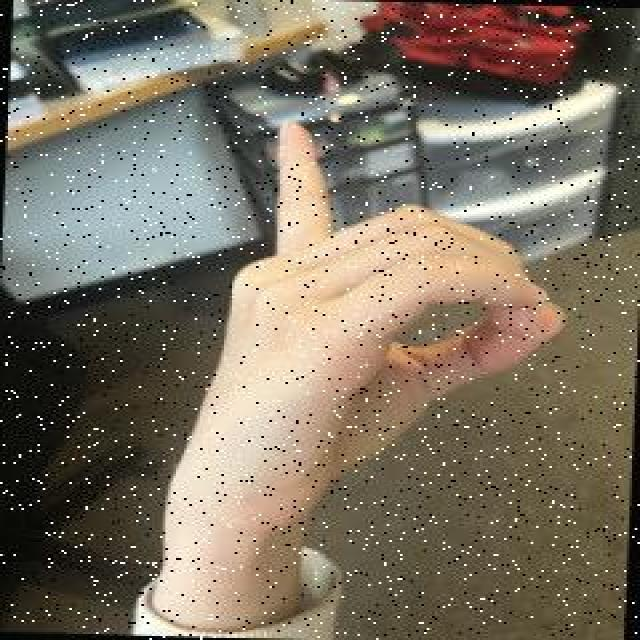D: (159, 112, 585, 546)
